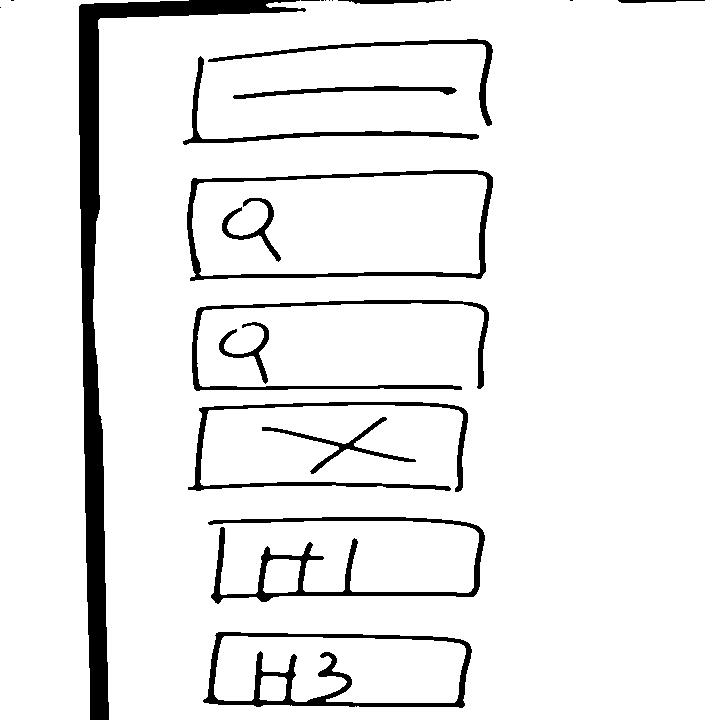button: (174, 34, 498, 150)
heading1: (198, 512, 494, 609)
heading3: (199, 625, 476, 714)
picture: (188, 399, 475, 496)
search bar: (179, 167, 501, 287), (188, 299, 493, 397)
